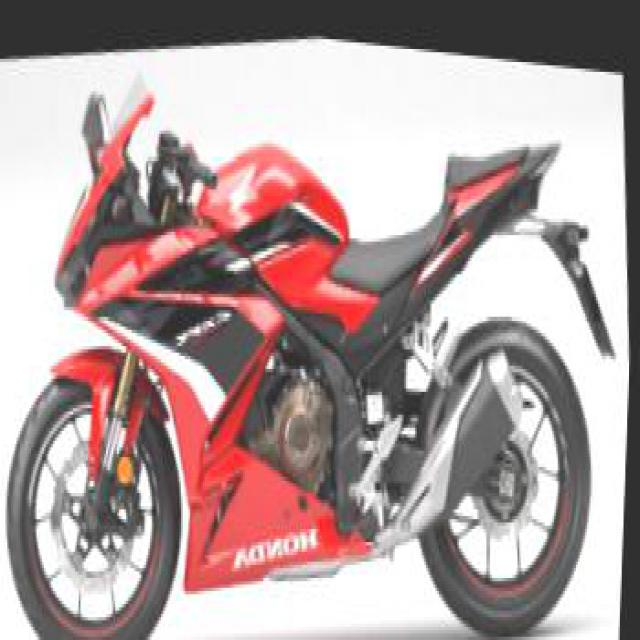CBR500R: (0, 0, 620, 637)
